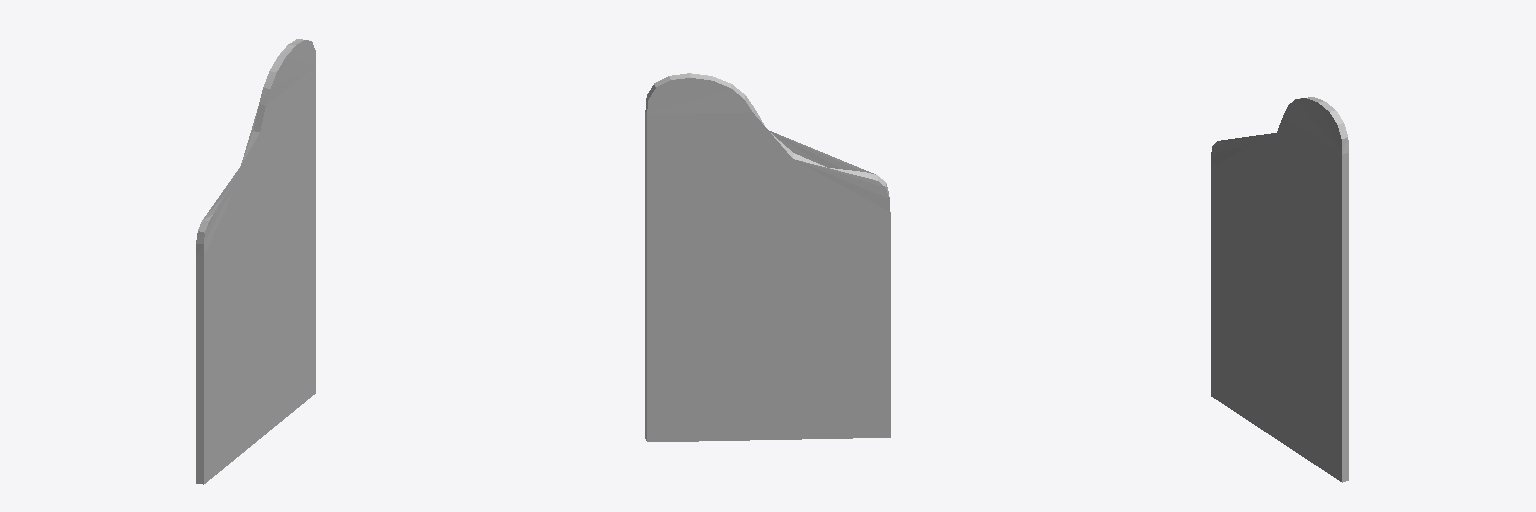
File: Puerta.obj
3 renders of one model, left to right at view 1: azimuth 30°, elevation 25°; view 2: azimuth 150°, elevation 25°; view 3: azimuth 270°, elevation 25°, orthographic.
Parts seen in each view (by area): view 1: pasted__pCube9 group7; view 2: pasted__pCube9 group7; view 3: pasted__pCube9 group7.
Boxes of the visible parts, x1=… form: pasted__pCube9 group7: x1=196, y1=39, x2=315, y2=484; pasted__pCube9 group7: x1=645, y1=73, x2=890, y2=441; pasted__pCube9 group7: x1=1211, y1=97, x2=1348, y2=482.
Bounding box in the file's own units: 6.67 × 12.72 × 4.37.